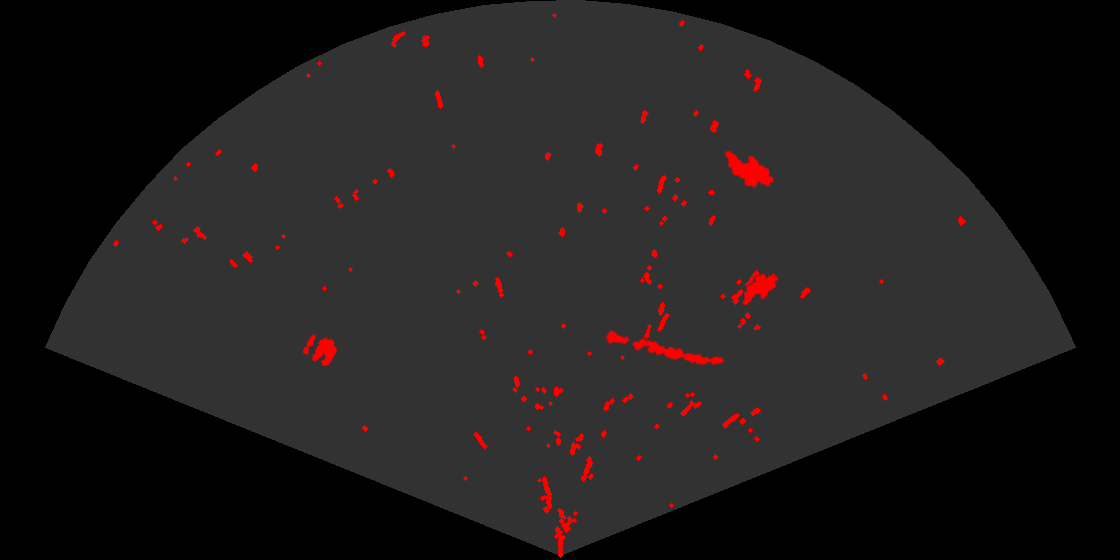AUV: (723, 149, 775, 189), (741, 272, 780, 307)
ball: (301, 333, 339, 368)
chain: (603, 329, 726, 367)
